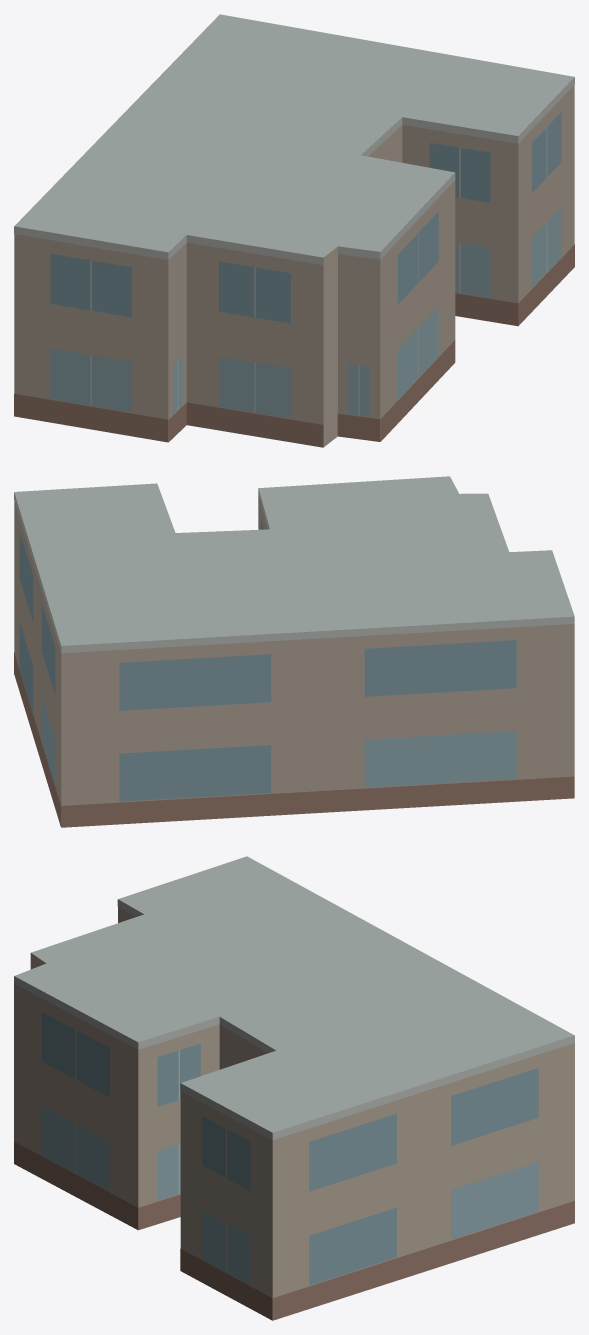
Rendered from survey-upis-32830290.glb.
The picture shows the model from 3 angles, top to bottom: view 1: azimuth 30°, elevation 25°; view 2: azimuth 150°, elevation 25°; view 3: azimuth 270°, elevation 25°; orthographic projection. The views are drawn at different scales.
Visible parts, largest first — view 1: survey-upis-32830290.tmp; view 2: survey-upis-32830290.tmp; view 3: survey-upis-32830290.tmp.
Boxes of the visible parts, x1=… form: survey-upis-32830290.tmp: x1=14, y1=14, x2=574, y2=447; survey-upis-32830290.tmp: x1=14, y1=476, x2=574, y2=827; survey-upis-32830290.tmp: x1=14, y1=856, x2=574, y2=1320.
Bounding box in the file's own units: 19.27 × 6.1 × 16.51.
